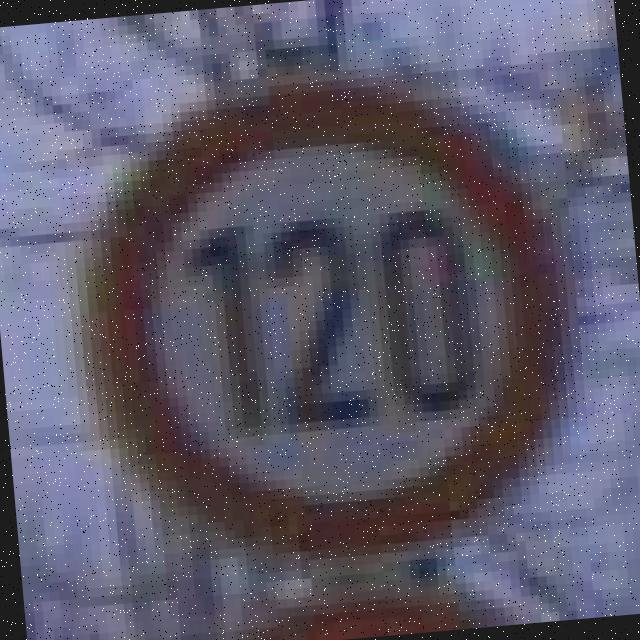Ograniczenie predkosci do 120: (41, 32, 608, 607)
